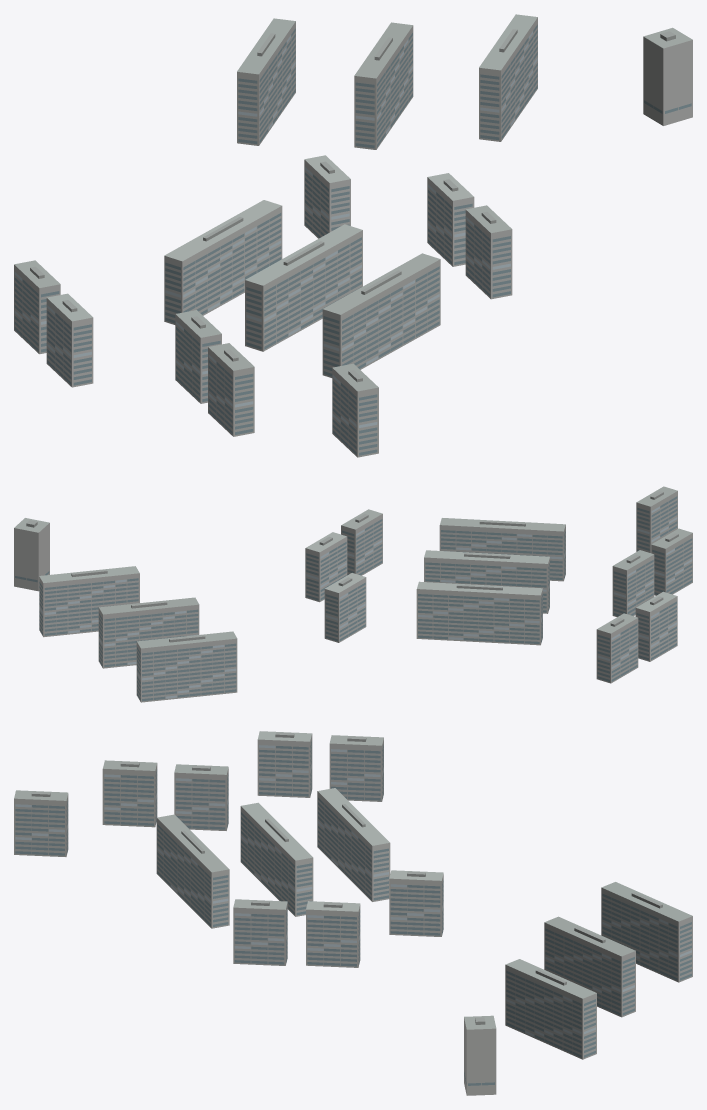
File: apt-a14380211.glb
The picture shows the model from 3 angles, top to bottom: view 1: azimuth 30°, elevation 25°; view 2: azimuth 150°, elevation 25°; view 3: azimuth 270°, elevation 25°; orthographic projection. The views are drawn at different scales.
Visible parts, largest first — view 1: apt-a14380211; view 2: apt-a14380211; view 3: apt-a14380211.
Part boxes in pixels (left/top/right/bottom): apt-a14380211: left=14, top=14, right=692, bottom=457; apt-a14380211: left=14, top=486, right=692, bottom=702; apt-a14380211: left=14, top=731, right=692, bottom=1095.
Bounding box in the file's own units: 430 × 45 × 400.
